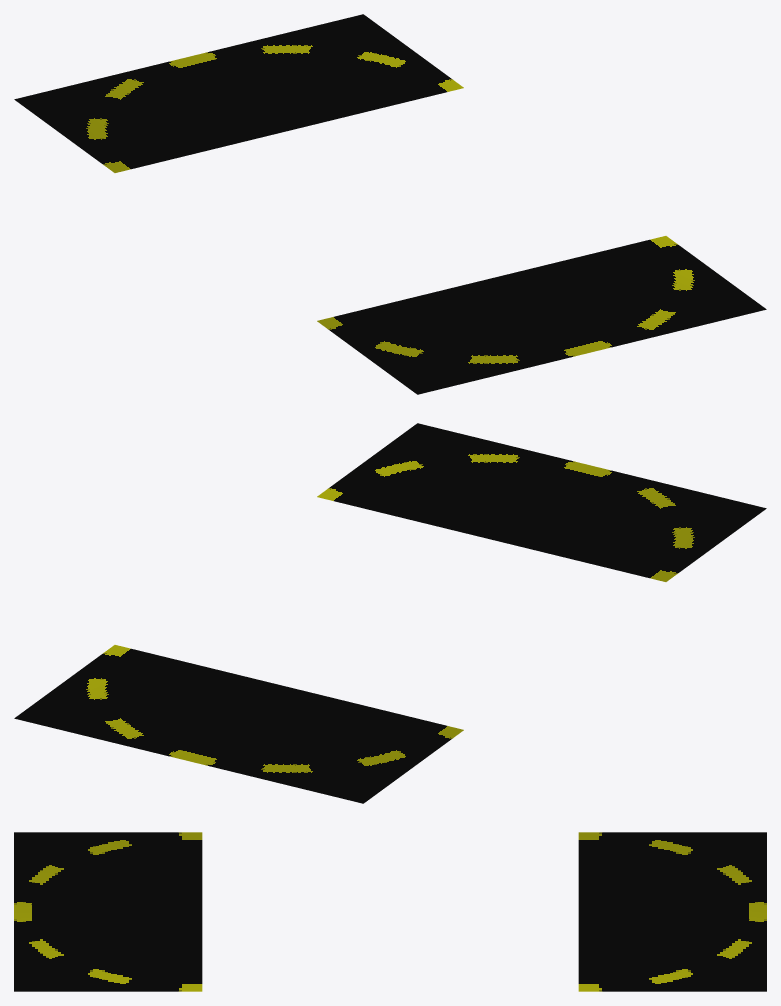
Rendered from Aztec_Alpha_110.glb.
3 views of the same model, one above another, from view 1: azimuth 30°, elevation 25°; view 2: azimuth 150°, elevation 25°; view 3: azimuth 270°, elevation 25° (orthographic). The views are drawn at different scales.
Parts seen in each view (by area): view 1: Aztec_Alpha_110; view 2: Aztec_Alpha_110; view 3: Aztec_Alpha_110.
Boxes of the visible parts, bbox=[...] form: Aztec_Alpha_110: bbox=[14, 14, 766, 394]; Aztec_Alpha_110: bbox=[14, 423, 766, 803]; Aztec_Alpha_110: bbox=[14, 832, 766, 991].
Size of the model in its own units: 16.25 by 7.11e-15 by 32.5.
1 material, 1 textured.
